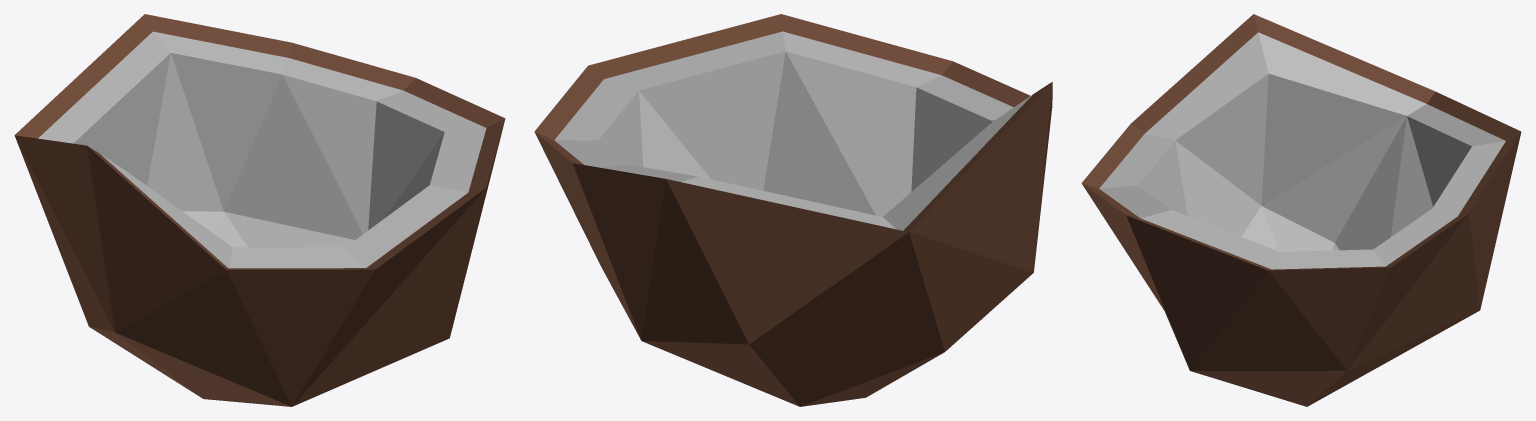
Rendered from cocoaberto.fbx.
The picture shows the model from 3 angles, left to right: view 1: azimuth 30°, elevation 25°; view 2: azimuth 150°, elevation 25°; view 3: azimuth 270°, elevation 25°; orthographic projection. The views are drawn at different scales.
Parts seen in each view (by area): view 1: Sphere.003_coconut2_0; view 2: Sphere.003_coconut2_0; view 3: Sphere.003_coconut2_0.
Part boxes in pixels (bbox=[...]): Sphere.003_coconut2_0: bbox=[14, 14, 505, 406]; Sphere.003_coconut2_0: bbox=[534, 14, 1052, 406]; Sphere.003_coconut2_0: bbox=[1081, 14, 1521, 406].
Size of the model in its own units: 22.99 by 16.11 by 23.31.
